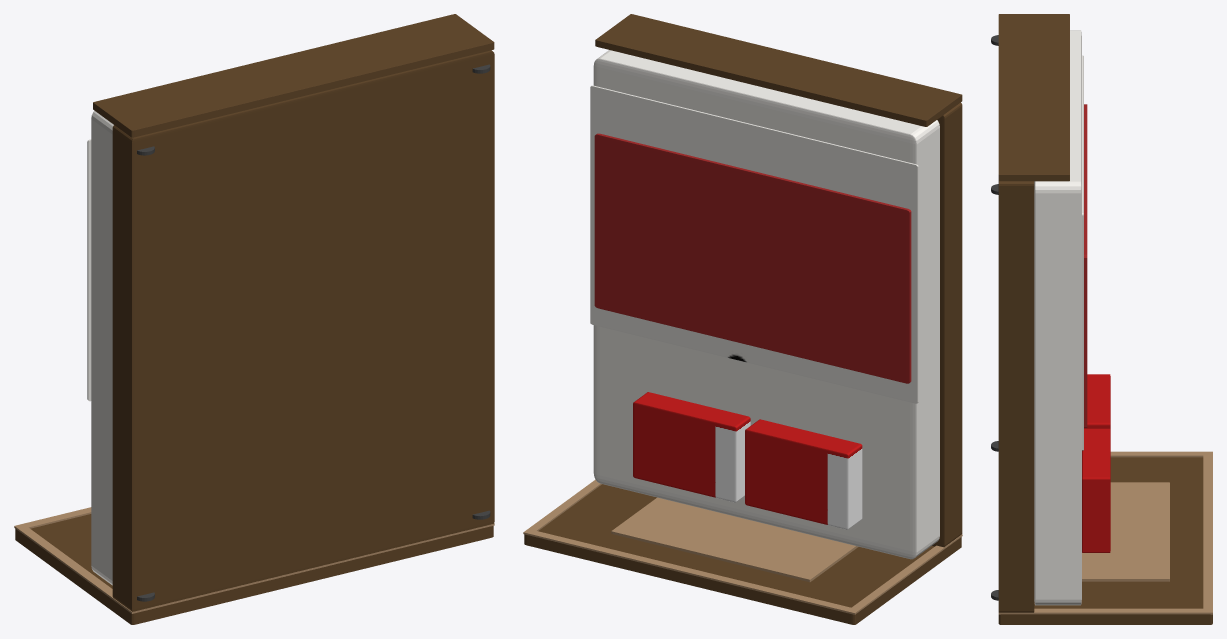
Rendered from bed_v3.glb.
The picture shows the model from 3 angles, left to right: view 1: azimuth 30°, elevation 25°; view 2: azimuth 150°, elevation 25°; view 3: azimuth 270°, elevation 25°; orthographic projection. The views are drawn at different scales.
Visible parts, largest first — view 1: Base, Footboard, Mattress, Headboard, Sheet, Headboard_Frame_Left, Headboard_Frame_Bottom; view 2: Blanket, Mattress, Sheet, Headboard, Footboard, Pillow_Left, Base, Pillow_Right, Headboard_Panel, Headboard_Frame_Top, Headboard_Frame_Left, Headboard_Frame_Right; view 3: Mattress, Base, Footboard, Headboard, Headboard_Panel, Pillow_Right, Headboard_Frame_Top, Pillow_Left, Blanket, Headboard_Frame_Right, Sheet, Headboard_Frame_Left.
Part boxes in pixels (bbox=[...]): Base: bbox=[112, 50, 494, 611]; Footboard: bbox=[93, 14, 494, 137]; Mattress: bbox=[91, 110, 113, 585]; Headboard: bbox=[15, 514, 493, 624]; Sheet: bbox=[87, 139, 91, 401]; Headboard_Frame_Left: bbox=[15, 524, 140, 611]; Headboard_Frame_Bottom: bbox=[126, 523, 494, 613]; Blanket: bbox=[594, 133, 911, 383]; Mattress: bbox=[593, 50, 939, 559]; Sheet: bbox=[590, 85, 918, 403]; Headboard: bbox=[524, 484, 961, 624]; Footboard: bbox=[595, 14, 962, 126]; Pillow_Left: bbox=[745, 419, 862, 529]; Base: bbox=[932, 102, 962, 547]; Pillow_Right: bbox=[633, 392, 750, 502]; Headboard_Panel: bbox=[611, 497, 858, 582]; Headboard_Frame_Top: bbox=[523, 529, 859, 614]; Headboard_Frame_Left: bbox=[846, 535, 960, 614]; Headboard_Frame_Right: bbox=[523, 479, 601, 534]; Mattress: bbox=[1034, 30, 1081, 605]; Base: bbox=[998, 181, 1034, 612]; Footboard: bbox=[998, 14, 1069, 181]; Headboard: bbox=[998, 457, 1212, 624]; Headboard_Panel: bbox=[1082, 482, 1169, 581]; Pillow_Right: bbox=[1082, 428, 1110, 552]; Headboard_Frame_Top: bbox=[1203, 452, 1212, 614]; Pillow_Left: bbox=[1084, 374, 1110, 429]; Blanket: bbox=[1084, 104, 1087, 427]; Headboard_Frame_Right: bbox=[1008, 608, 1212, 614]; Sheet: bbox=[1082, 55, 1083, 450]; Headboard_Frame_Left: bbox=[1110, 451, 1212, 457].
Bounding box in the file's own units: 1.6 × 2.08 × 0.9315.
7 materials, 2 textured.
